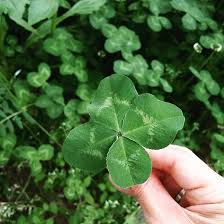4-clover: (64, 74, 185, 190)
